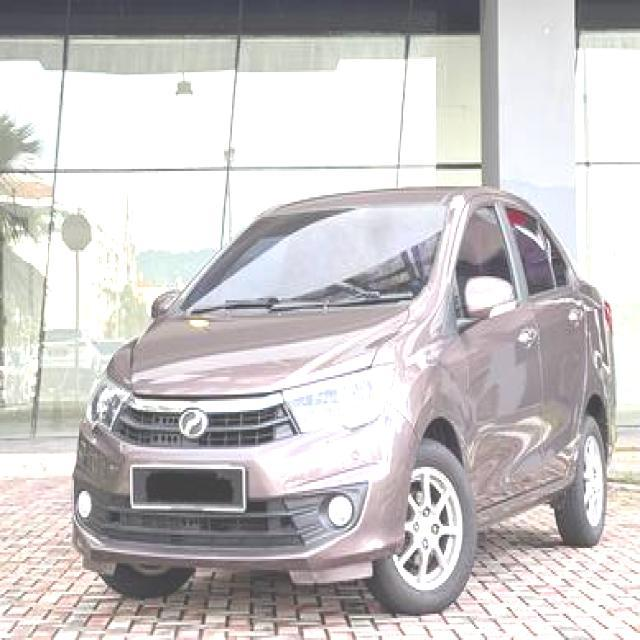PeroduaBezza: (69, 184, 618, 615)
